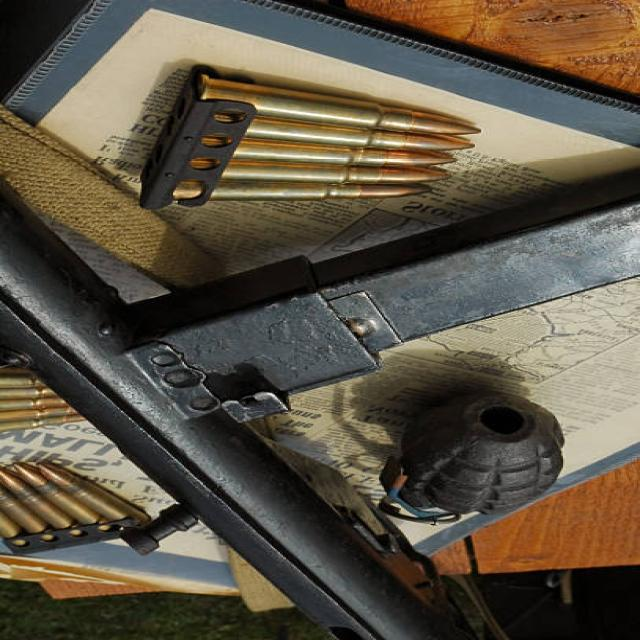grenade: (373, 388, 571, 531)
